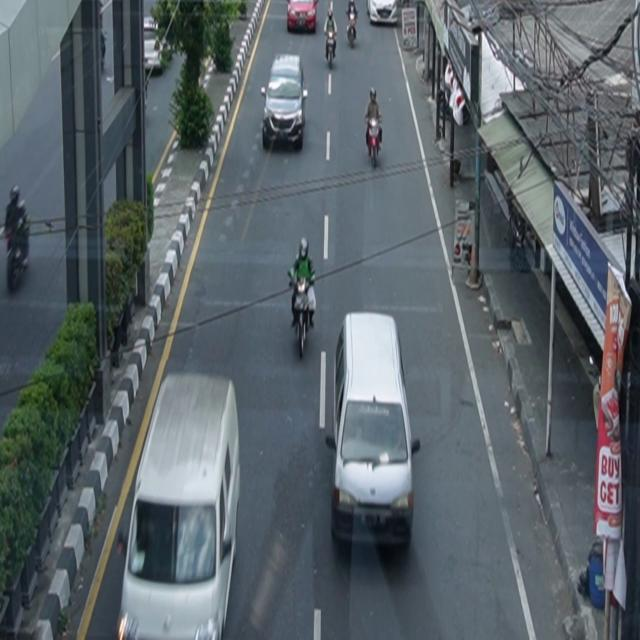bus: (118, 372, 242, 640)
car: (326, 312, 422, 552), (261, 54, 309, 151), (288, 1, 319, 34), (367, 1, 398, 26)
